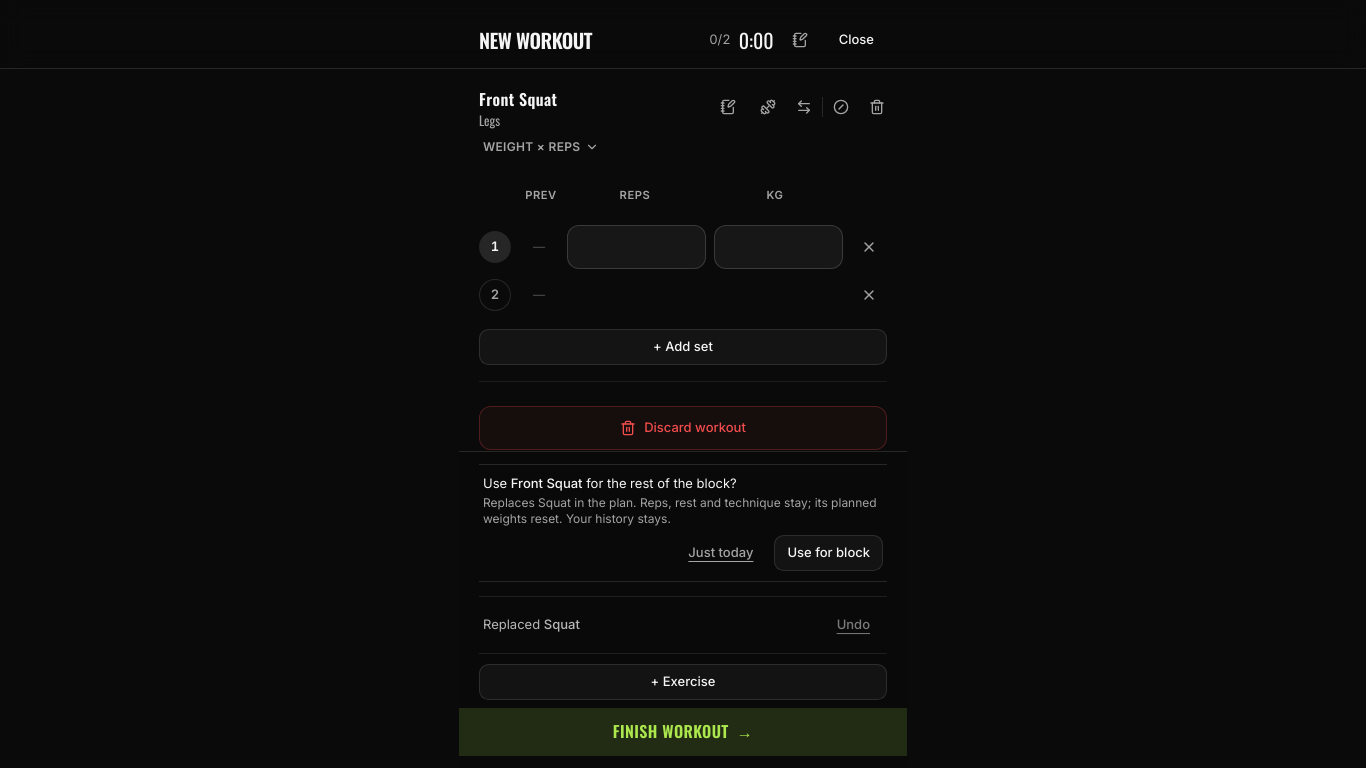
it: ATTACK: pendingRemember (block prompt) contracts › undoing the swap withdraws its remember question
Click the button "Undo" at [853, 628], box [824, 610, 883, 646]
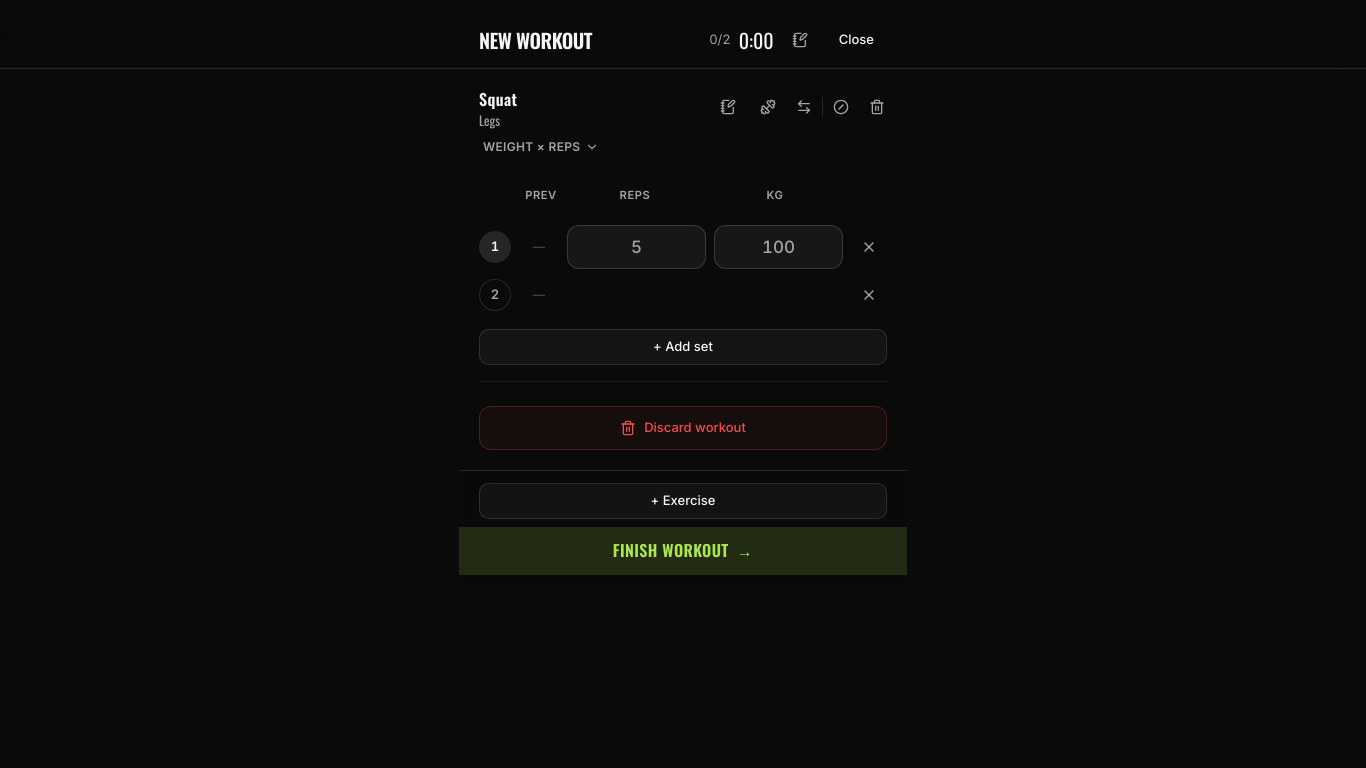
Expected: the text "for the rest of the block?" is gone
Expected: the text "Use for block" is gone
